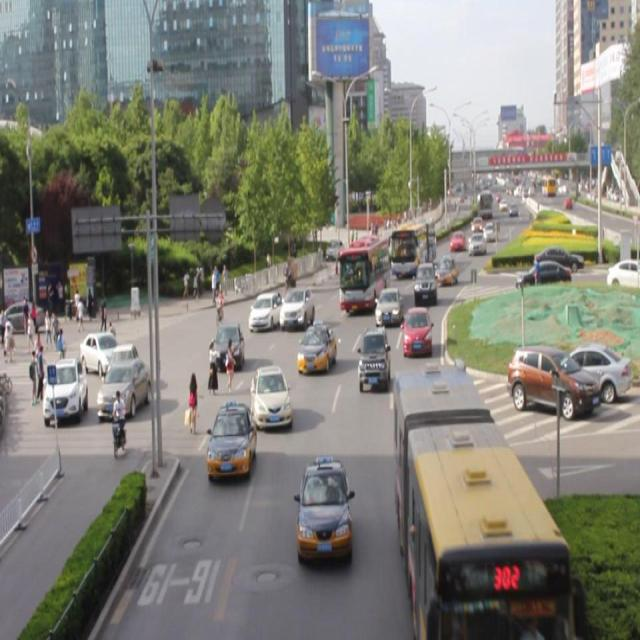car: (298, 461, 352, 561), (207, 402, 257, 478), (416, 368, 457, 440), (250, 366, 292, 429), (297, 322, 335, 378), (358, 329, 390, 389), (278, 280, 313, 327), (214, 320, 243, 370), (402, 309, 432, 357), (248, 288, 281, 326), (376, 288, 401, 327), (414, 261, 435, 303), (436, 254, 457, 286)
van: (393, 373, 568, 640), (338, 234, 388, 312), (392, 220, 435, 280)
